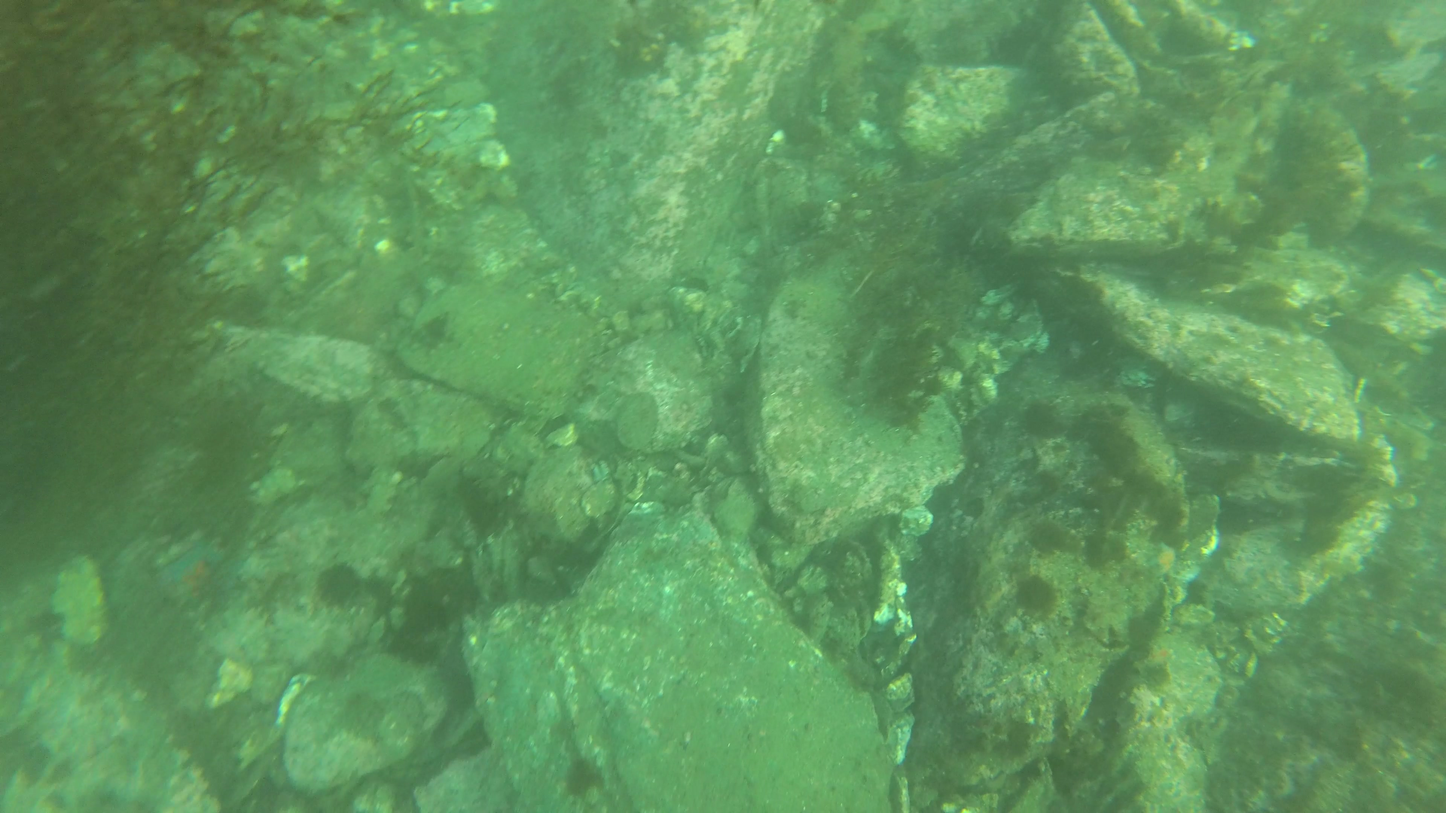holothurian: (166, 542, 240, 607)
